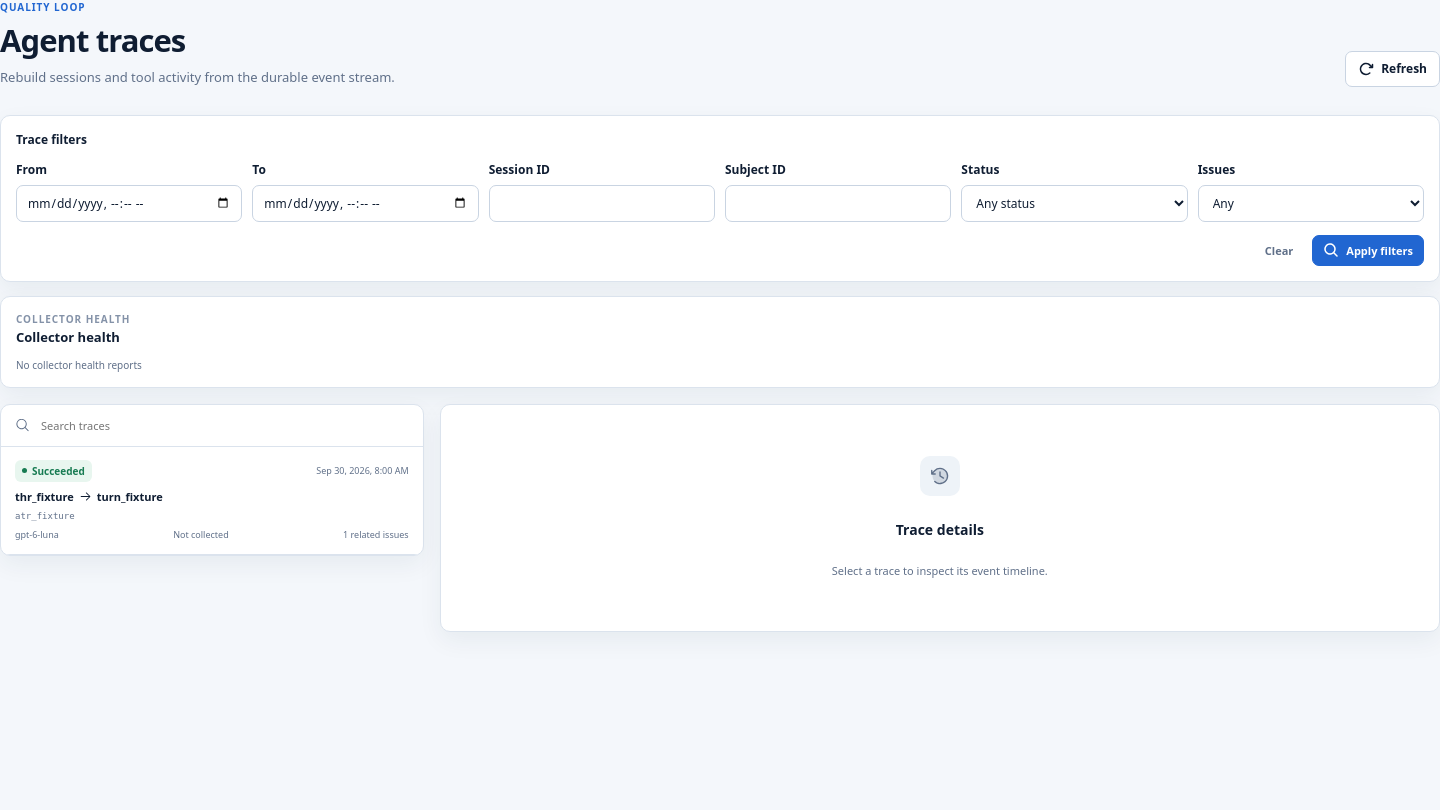
TraceWorkbench durable replay › refreshes rule-derived diagnosis when late durable events arrive
What coordinates should you click on to do the following:
click the button that starts with "Succeeded"
I would click on:
 (53, 471)
Its box is x1=1 y1=447 x2=423 y2=555.
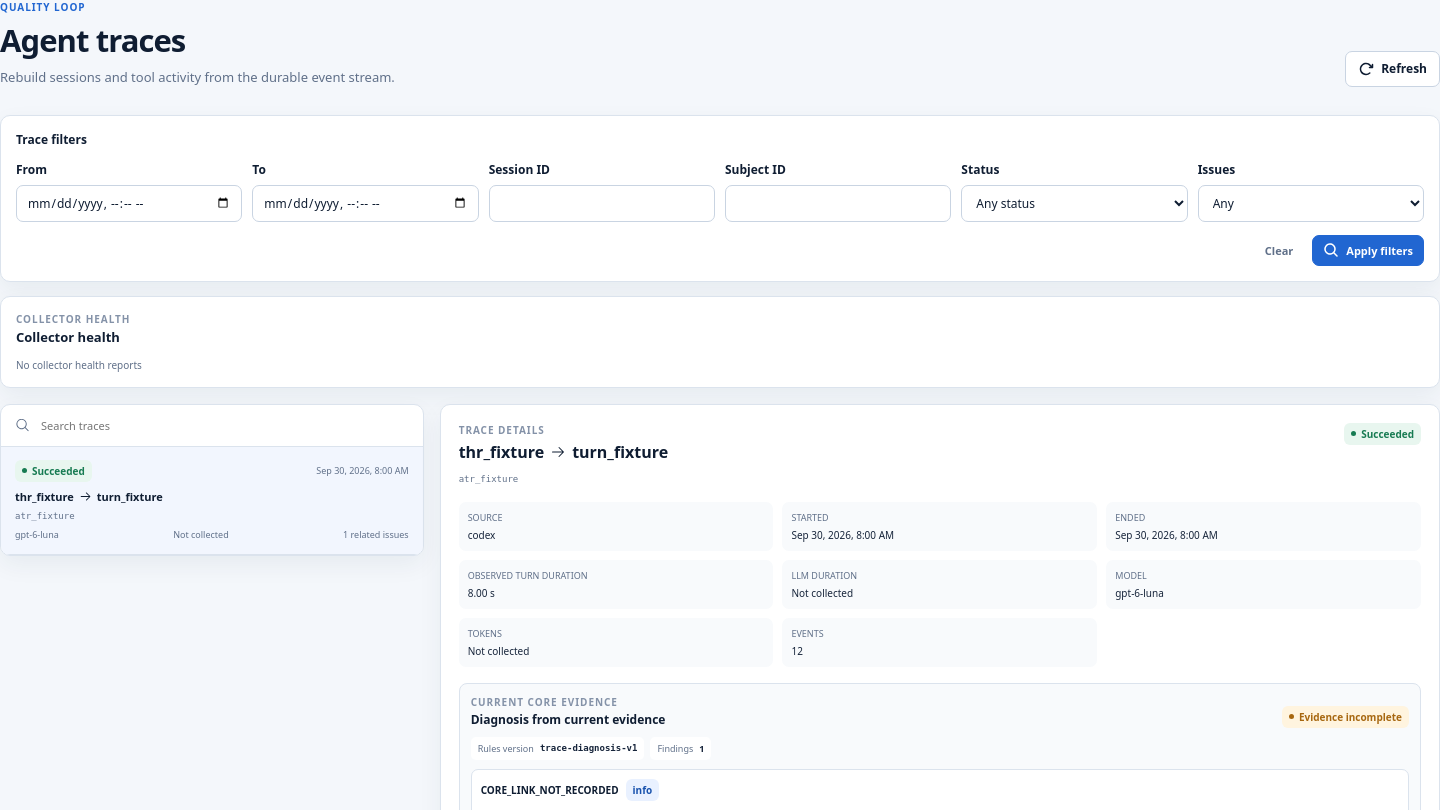
Expected: the text "Evidence incomplete" is shown, x1=1282 y1=706 x2=1409 y2=728
Expected: the text "CORE_LINK_NOT_RECORDED" is shown, x1=481 y1=783 x2=619 y2=797
What coordinates should you click on to do the following:
click the button "Refresh"
I would click on:
 (1393, 69)
Its box is x1=1345 y1=51 x2=1439 y2=87.
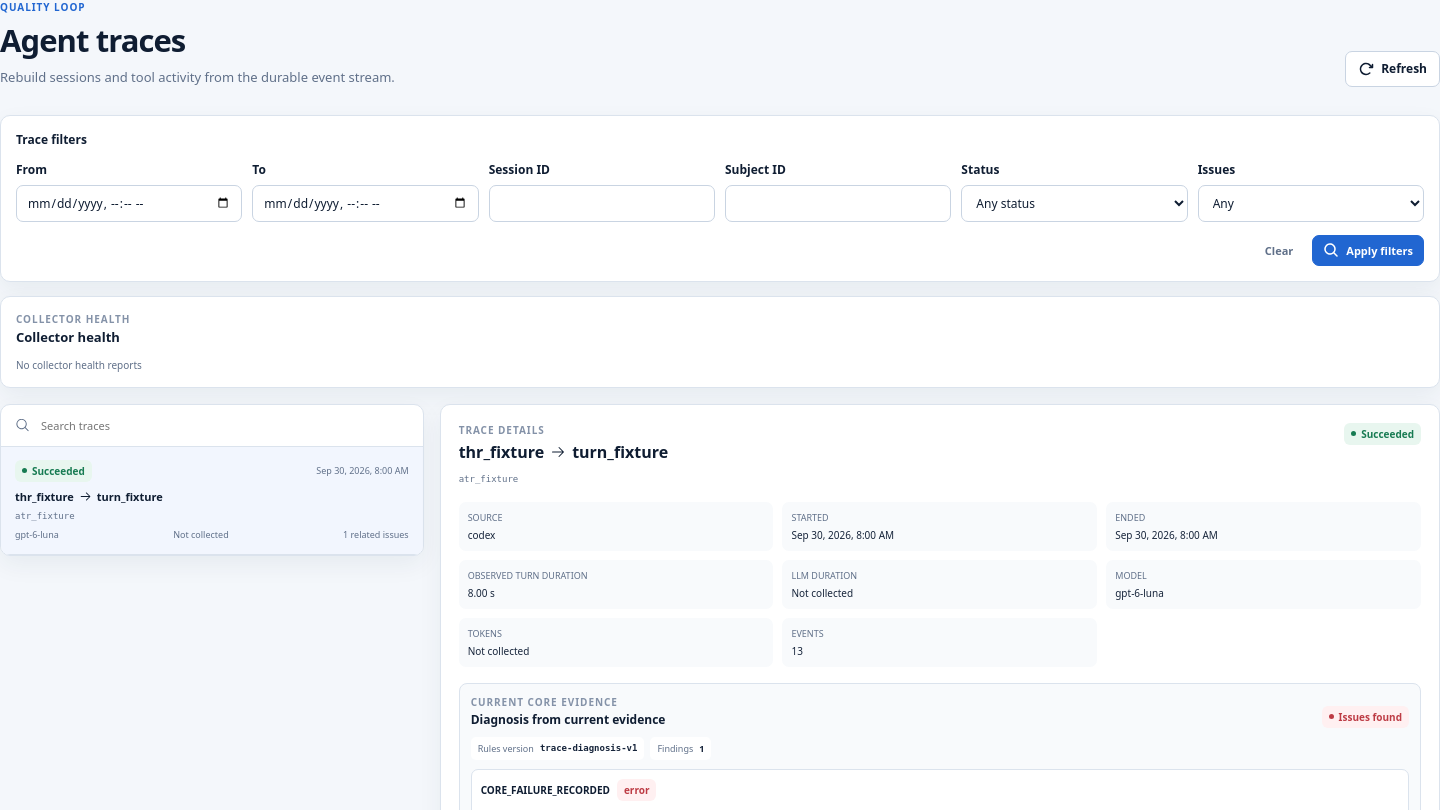
Expected: the text "Issues found" is shown, x1=1322 y1=706 x2=1409 y2=728
Expected: the text "CORE_FAILURE_RECORDED" is shown, x1=481 y1=783 x2=610 y2=797
